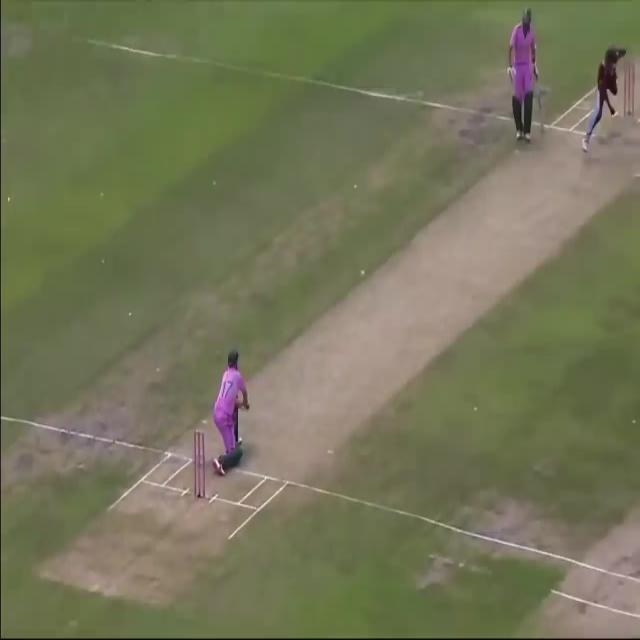Ball: (504, 5, 547, 144), (212, 348, 255, 480)
Fielder: (581, 38, 628, 151)
